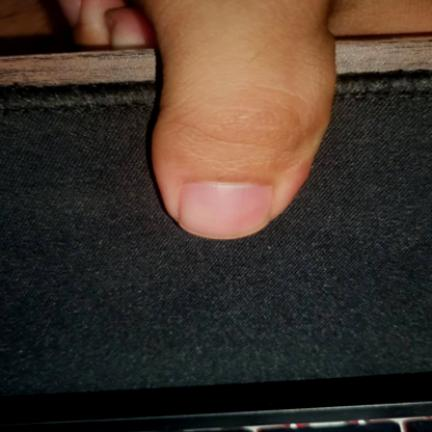Nail: (180, 181, 274, 239)
